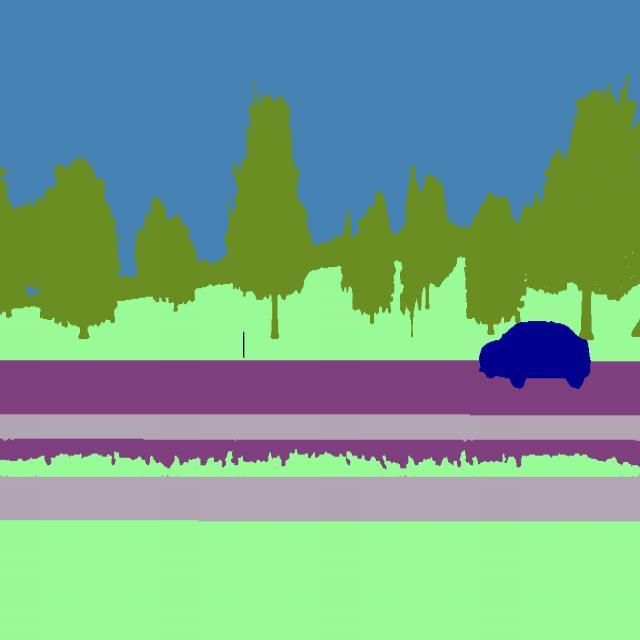safe: (476, 314, 595, 398)
